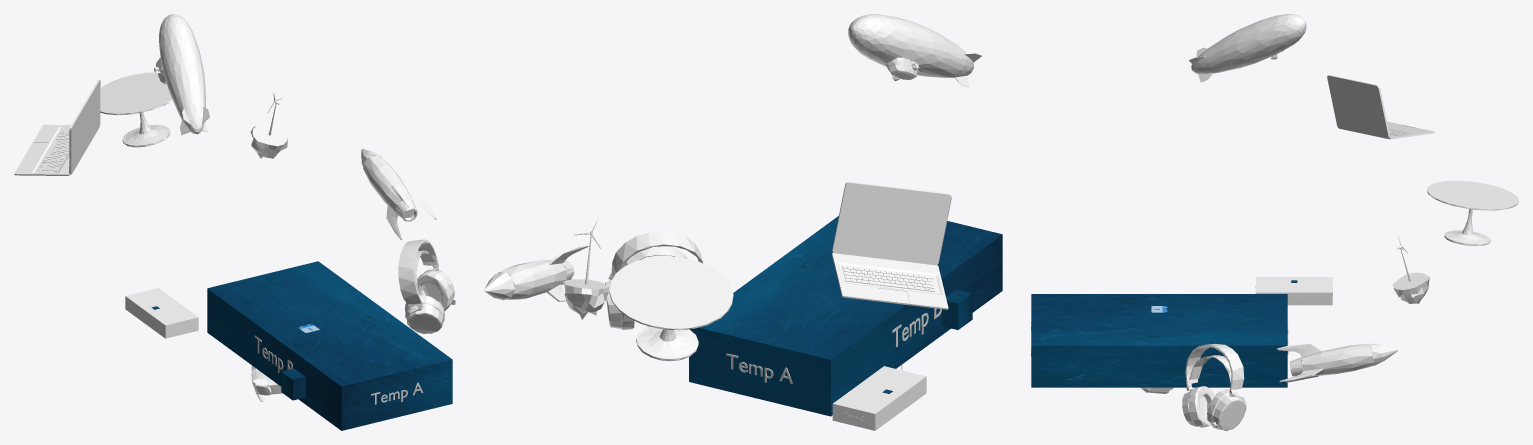
3 views of the same model, side by side, from view 1: azimuth 30°, elevation 25°; view 2: azimuth 150°, elevation 25°; view 3: azimuth 270°, elevation 25° (orthographic). The views are drawn at different scales.
Parts seen in each view (by area): view 1: ob4, Zeppelin, Headphones, Notebook, Table, Rocket003, ob1, Roundcube001, ob3, VR_Headset; view 2: ob4, Notebook, Table, Zeppelin, ob1, Rocket003, Headphones, Roundcube001, ob3; view 3: ob4, Zeppelin, Headphones, Notebook, Table, Rocket003, ob1, Roundcube001.
Boxes of the visible parts, x1,y1,x2,y2 form: ob4: (207, 261, 452, 430); Zeppelin: (154, 14, 209, 135); Headphones: (398, 239, 455, 333); Notebook: (14, 79, 100, 175); Table: (100, 72, 172, 147); Rocket003: (361, 148, 436, 239); ob1: (125, 288, 198, 338); Roundcube001: (250, 93, 287, 158); ob3: (281, 368, 305, 400); VR_Headset: (251, 365, 282, 401); ob4: (689, 216, 1002, 416); Notebook: (832, 181, 951, 309); Table: (609, 256, 733, 361); Zeppelin: (848, 14, 981, 87); ob1: (832, 366, 926, 430); Rocket003: (484, 244, 588, 301); Headphones: (605, 231, 703, 329); Roundcube001: (563, 221, 609, 319); ob3: (942, 289, 972, 329); ob4: (1031, 294, 1288, 387); Zeppelin: (1189, 14, 1306, 82); Headphones: (1182, 343, 1246, 430); Notebook: (1327, 75, 1434, 139); Table: (1427, 180, 1518, 245); Rocket003: (1277, 343, 1398, 382); ob1: (1255, 277, 1332, 305); Roundcube001: (1392, 234, 1429, 303).
Size of the model in its own units: 21.61 by 20.18 by 25.95.
Materials: 10 (3 with a texture image).
